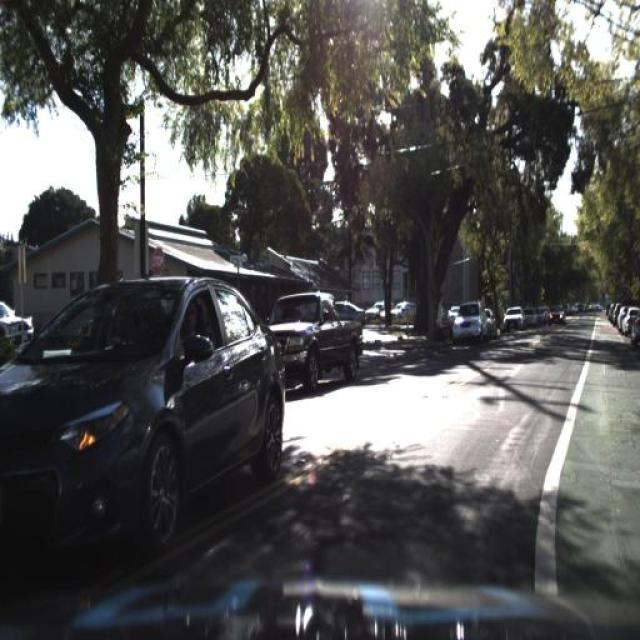car: (1, 276, 286, 560), (262, 280, 372, 400), (329, 289, 367, 337), (450, 298, 486, 348), (499, 302, 527, 334), (333, 297, 368, 322), (484, 300, 501, 340), (519, 306, 540, 335), (624, 302, 638, 344), (548, 300, 567, 330), (538, 301, 552, 333), (616, 302, 626, 337), (632, 311, 639, 349), (610, 302, 619, 331)
